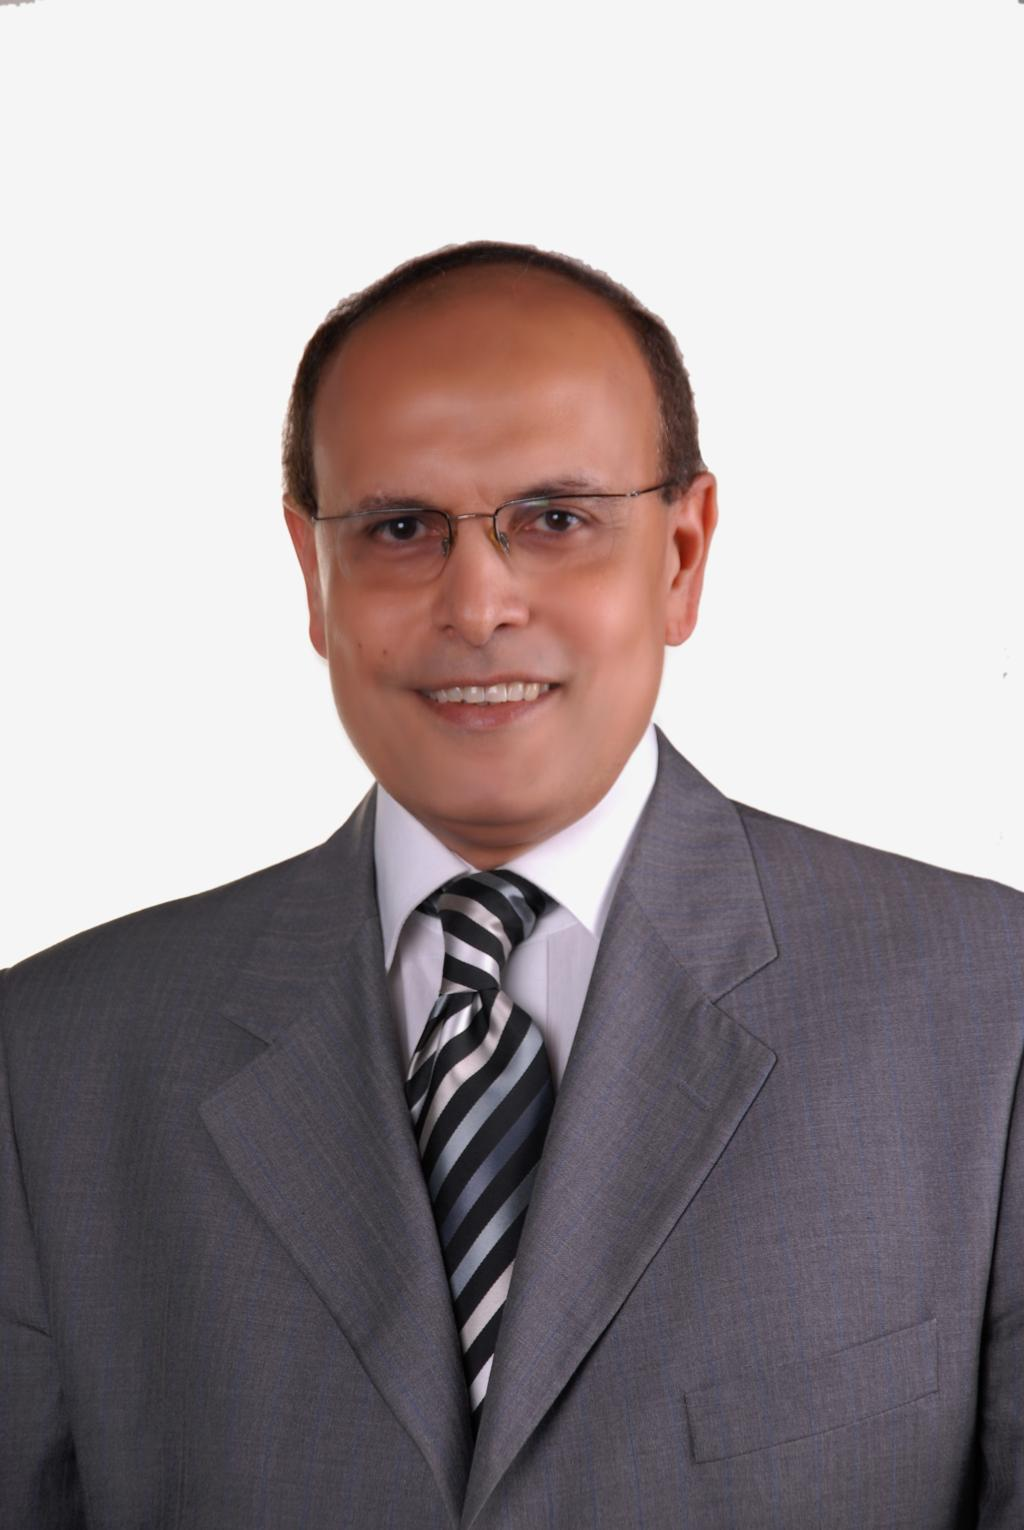face: (317, 329, 672, 822)
